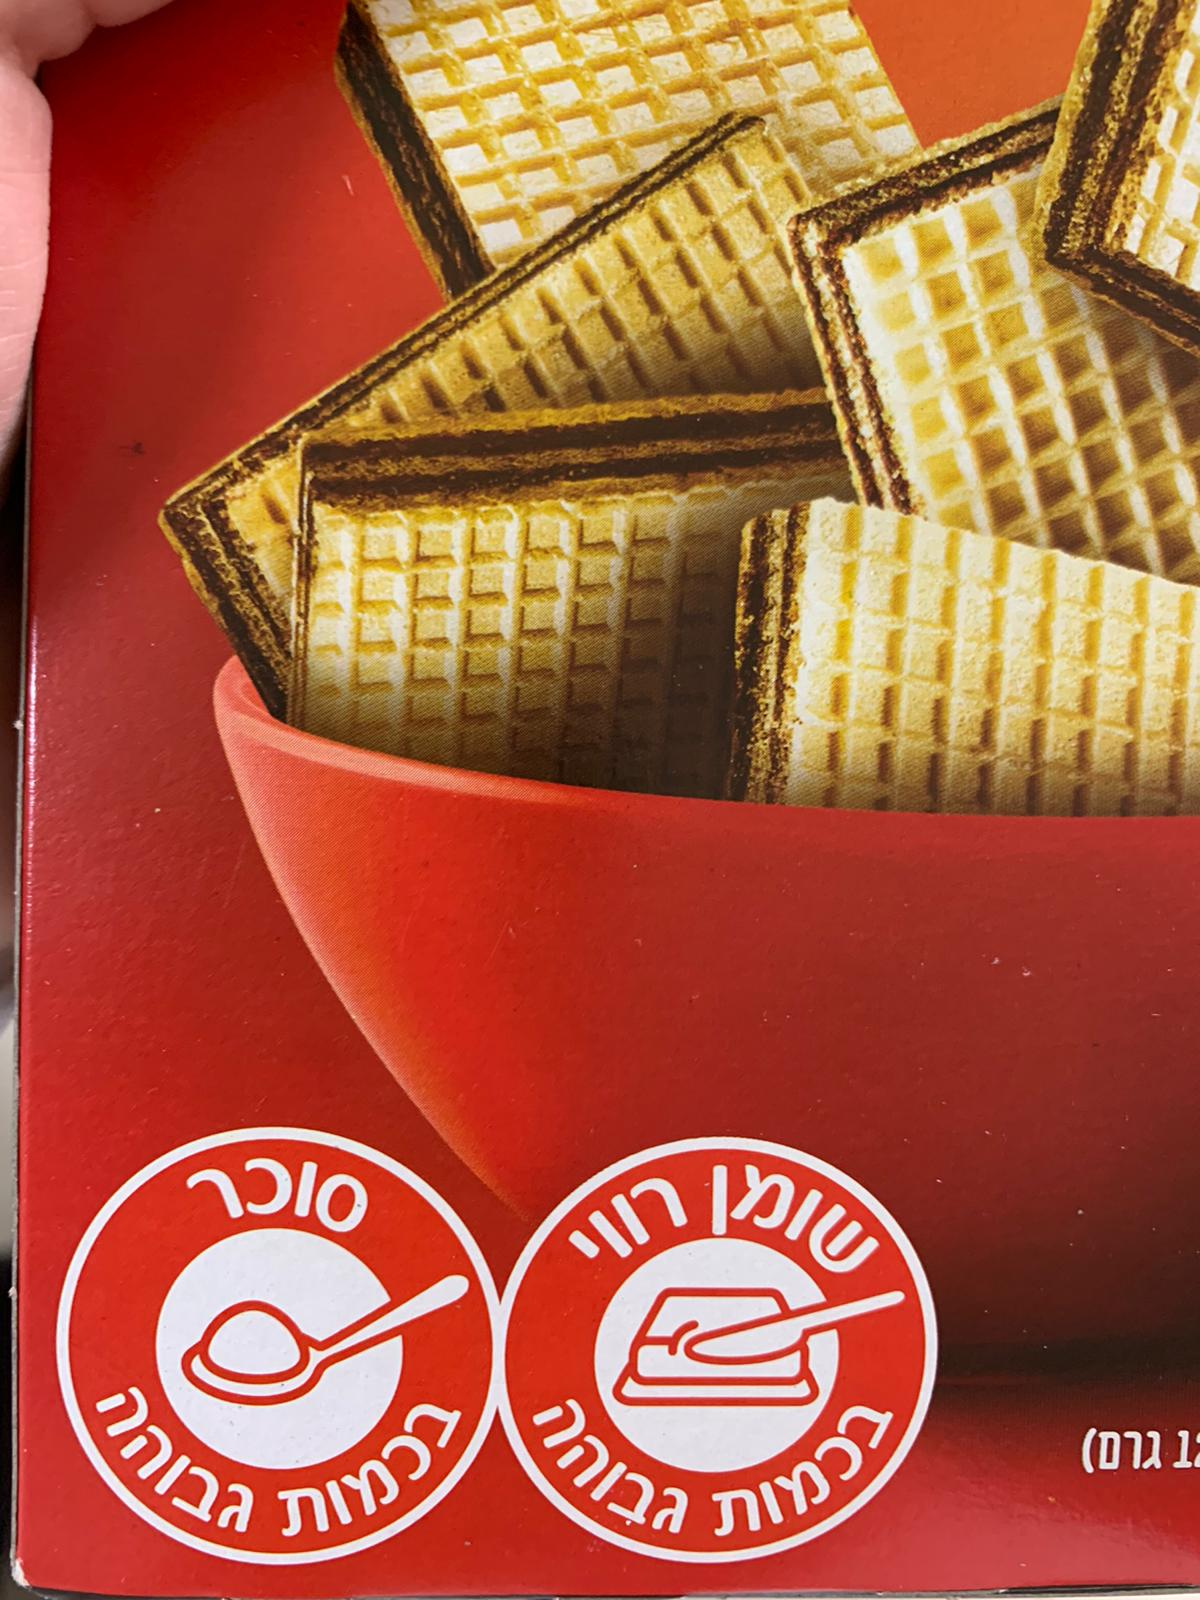fat: (495, 1136, 944, 1563)
sugar: (52, 1126, 495, 1569)
